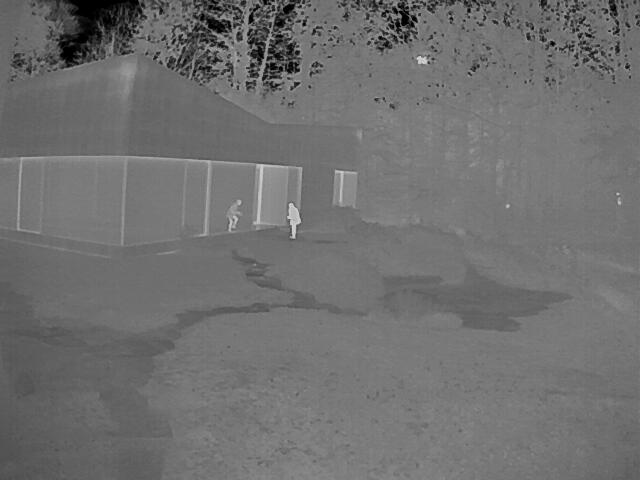person: (225, 198, 244, 229), (286, 202, 301, 238)
